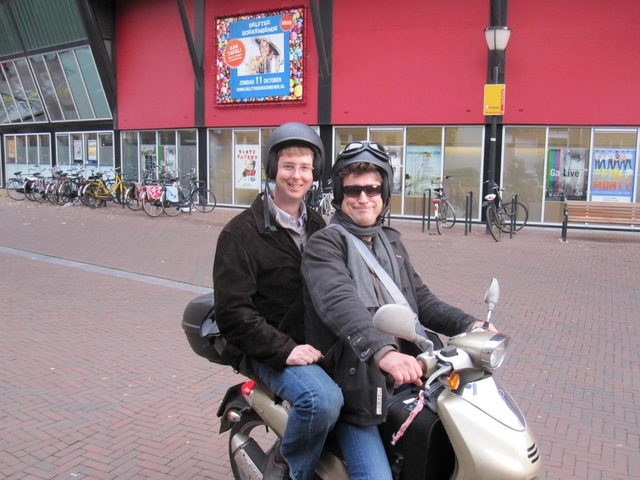helmet: (330, 145, 394, 196), (257, 129, 328, 171)
